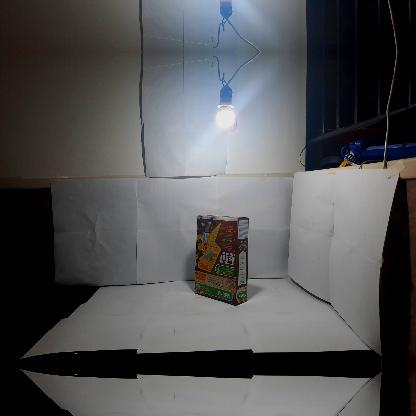Koko-Krunch: (194, 215, 248, 305)
